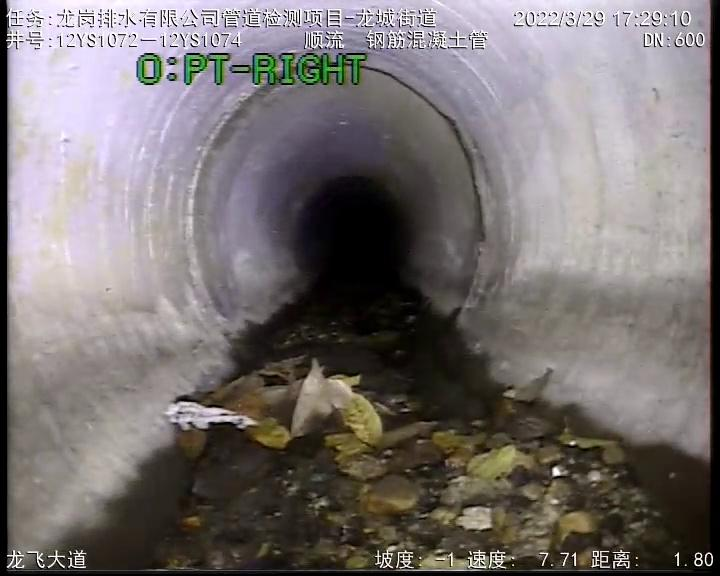CJ: (161, 289, 674, 568)
CKTJ: (179, 54, 492, 356)
